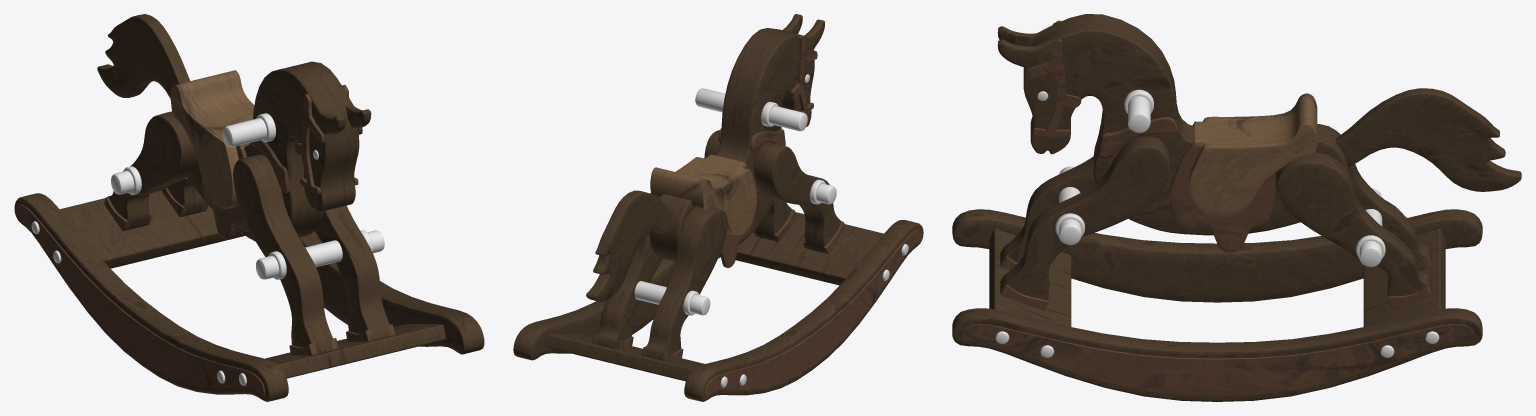
File: dondolo_fix.fbx
3 renders of one model, left to right at view 1: azimuth 30°, elevation 25°; view 2: azimuth 150°, elevation 25°; view 3: azimuth 270°, elevation 25°, orthographic. The views are drawn at different scales.
Visible parts, largest first — view 1: Rocking Horse; view 2: Rocking Horse; view 3: Rocking Horse.
Part boxes in pixels (<box>): Rocking Horse: <box>14,14,484,401</box>; Rocking Horse: <box>513,14,923,401</box>; Rocking Horse: <box>952,14,1521,401</box>.
Size of the model in its own units: 47.18 by 63.47 by 100.
Materials: 2 (1 with a texture image).
